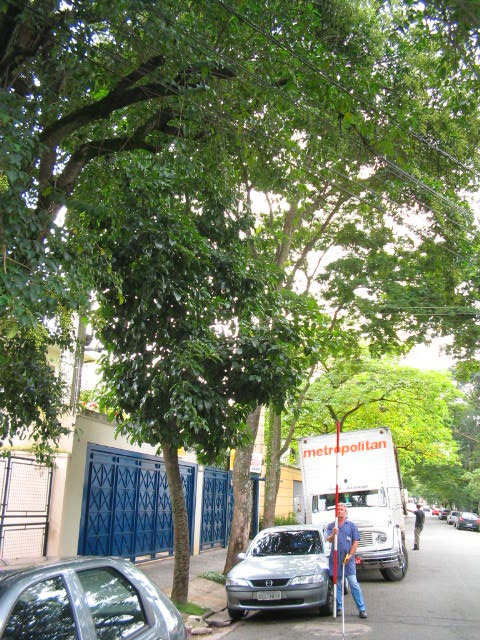crown: (76, 164, 353, 451)
stem: (150, 447, 211, 610)
stick: (330, 421, 346, 617)
tree: (73, 161, 359, 609)
